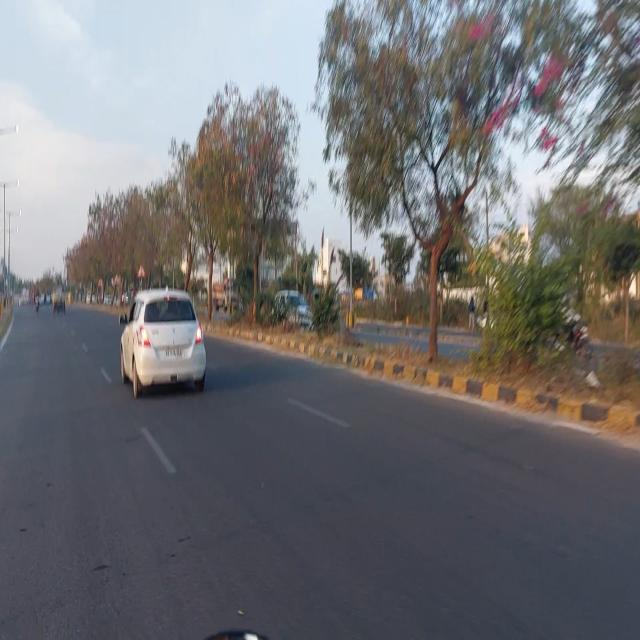bien_cam: (137, 262, 146, 280)
